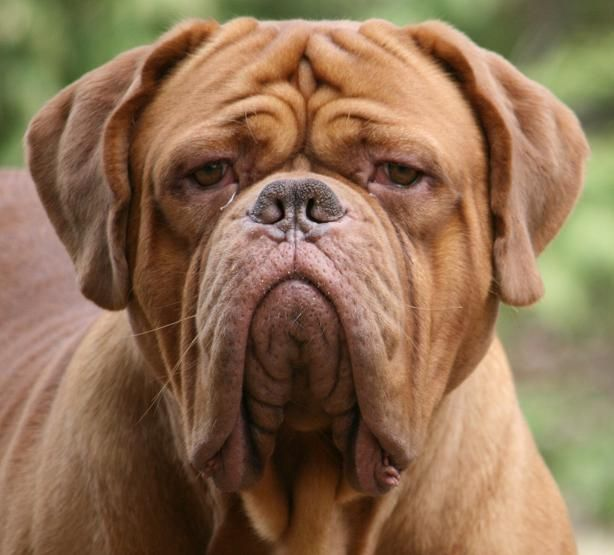dogue_de_bordeaux: (0, 15, 591, 555)
